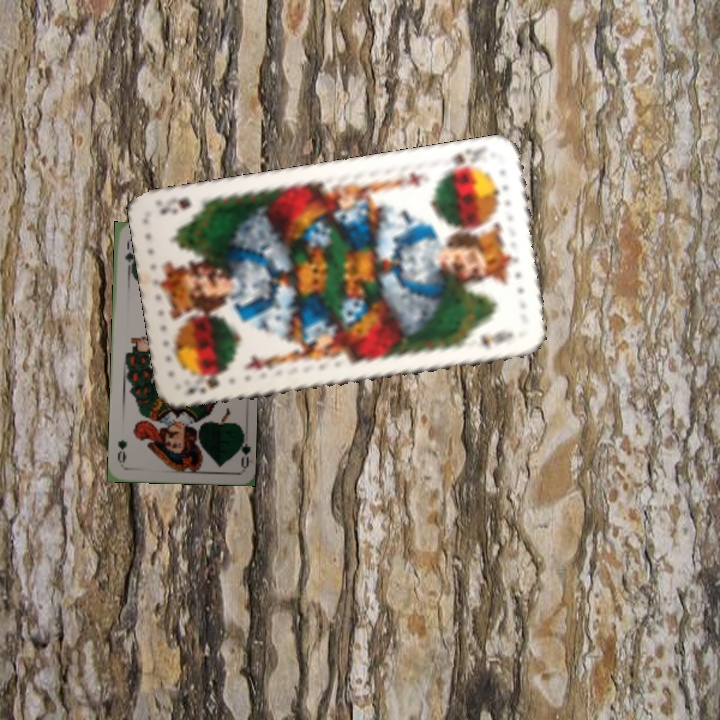GO: (232, 429, 252, 469), (121, 237, 137, 277)
SK: (440, 143, 490, 177), (181, 374, 221, 398)
